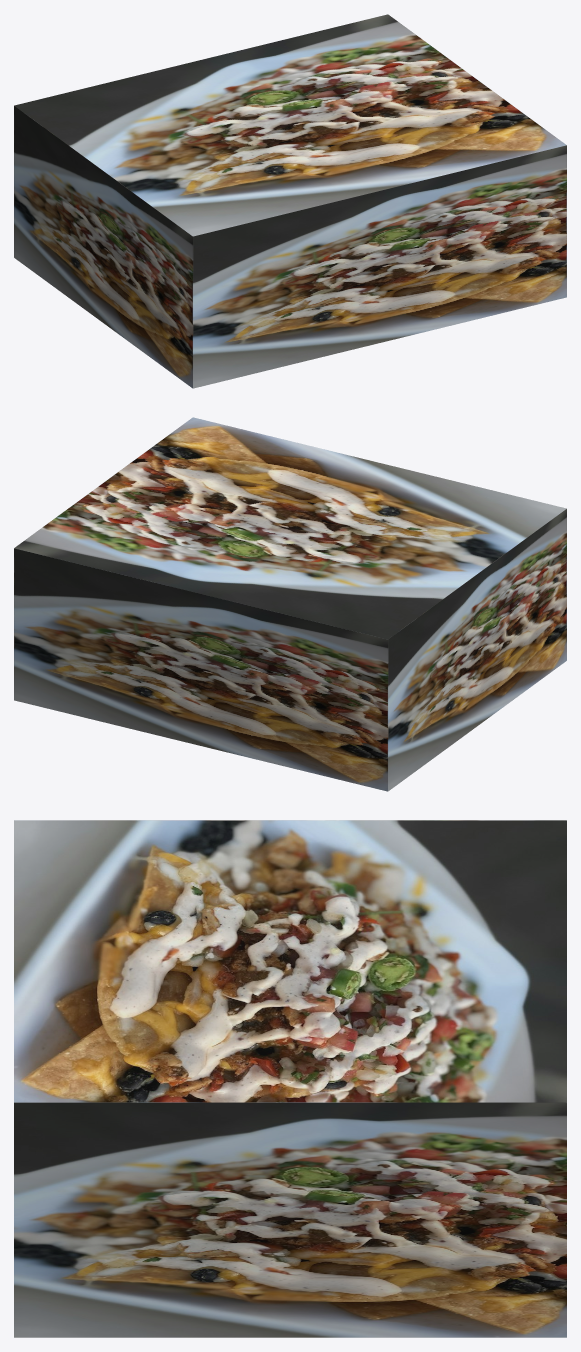
Rendered from p4-nachos.glb.
The picture shows the model from 3 angles, top to bottom: view 1: azimuth 30°, elevation 25°; view 2: azimuth 150°, elevation 25°; view 3: azimuth 270°, elevation 25°; orthographic projection. The views are drawn at different scales.
Bounding box in the file's own units: 1.75 × 0.68 × 1.45.
1 material, 1 textured.
